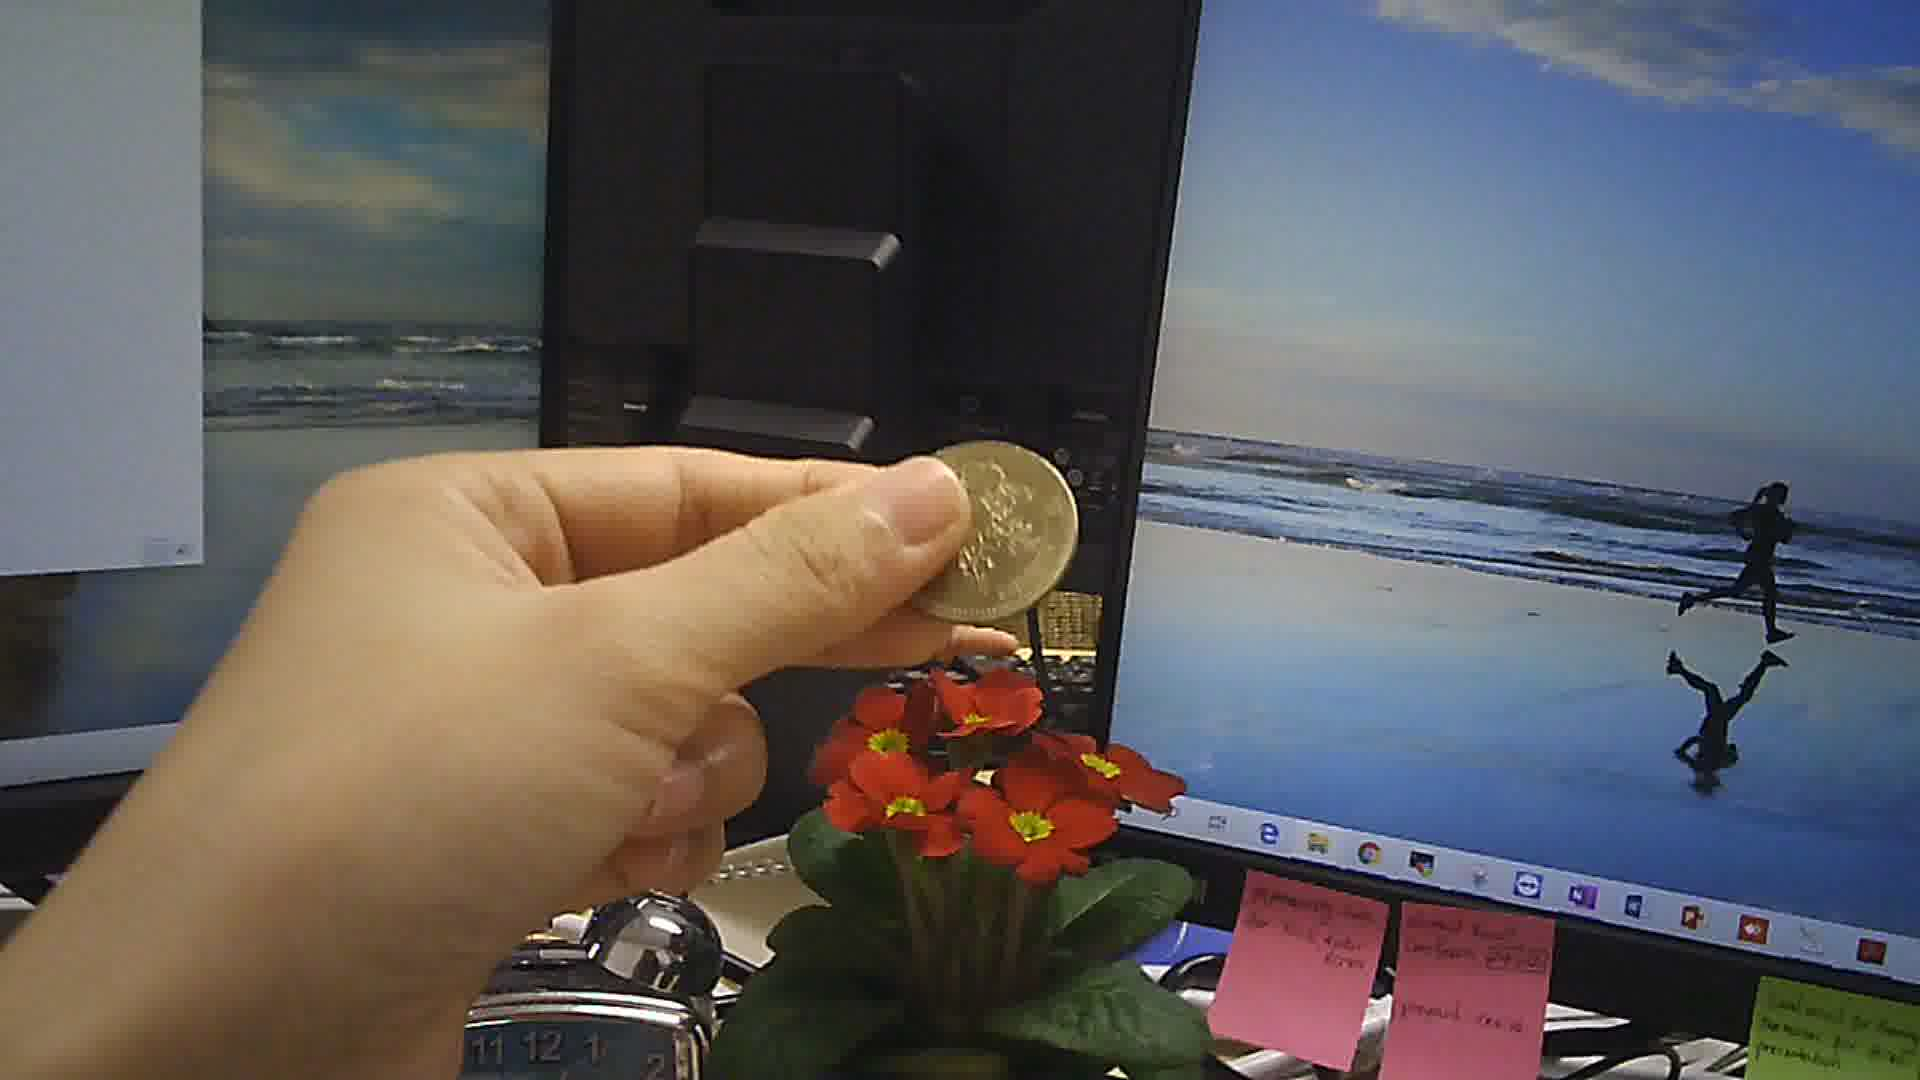500 Yen: (894, 429, 1083, 622)
